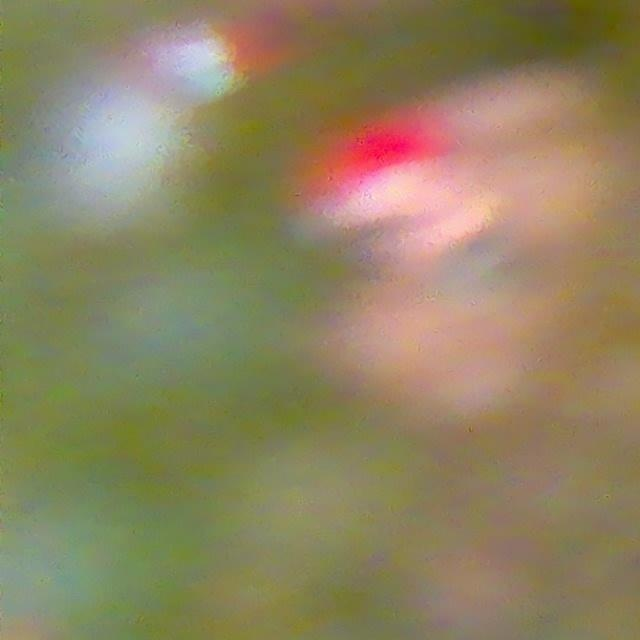SeaGrape: (1, 473, 199, 640)
